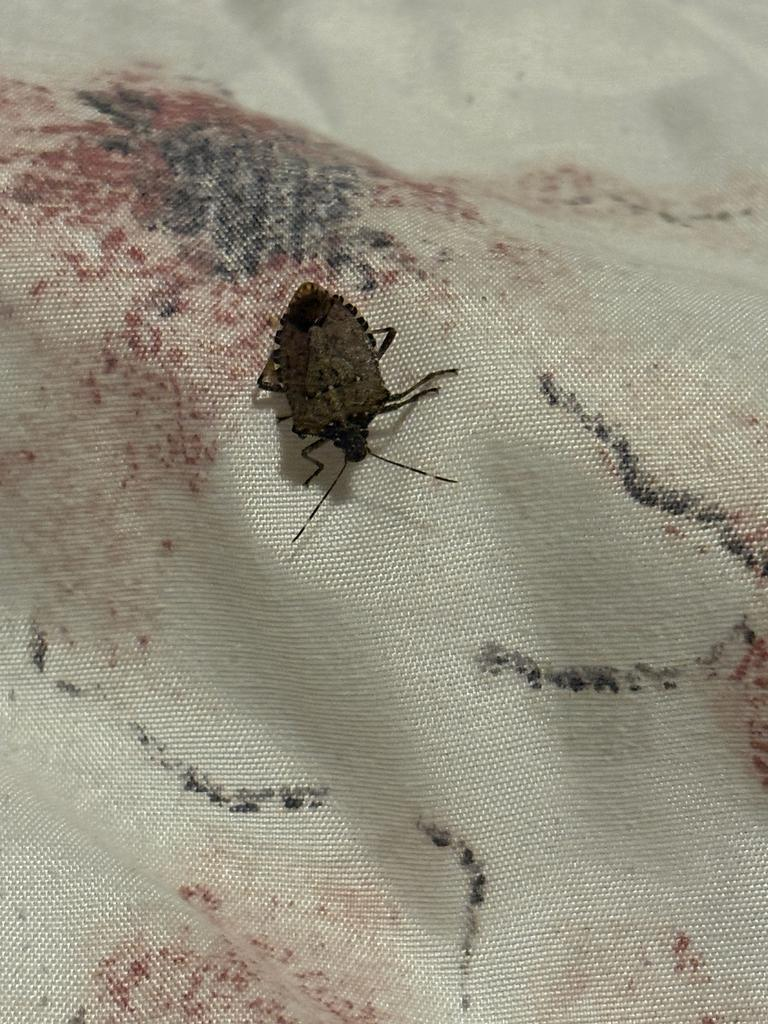stink_bugs: (219, 256, 497, 585)
